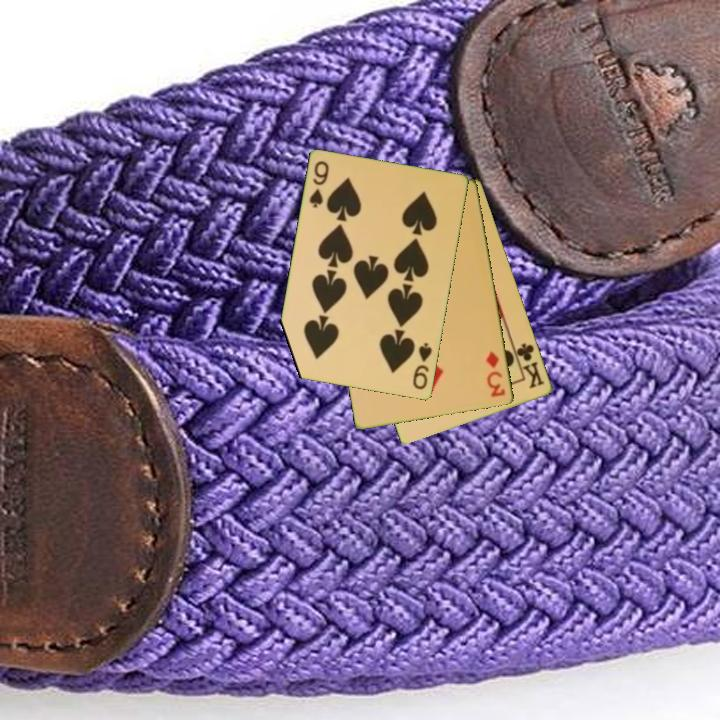3d: (482, 348, 508, 400)
9s: (409, 339, 435, 393), (306, 157, 332, 211)
Kc: (510, 340, 548, 392)
